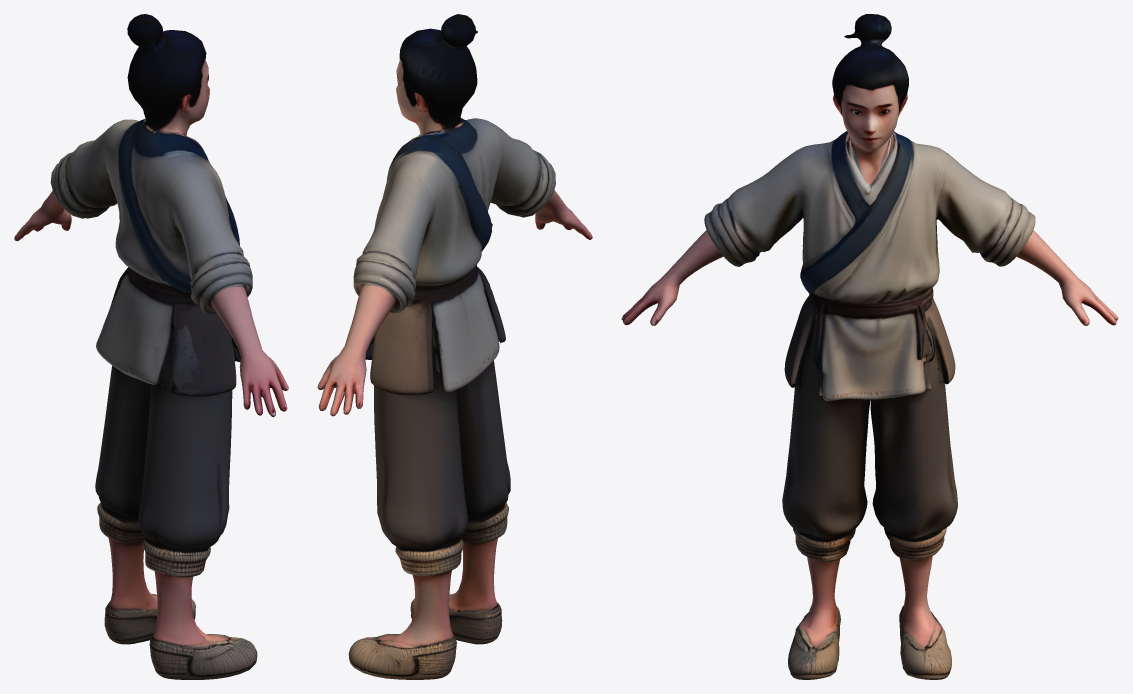
File: 武术人物3d模型.fbx
3 renders of one model, left to right at view 1: azimuth 30°, elevation 25°; view 2: azimuth 150°, elevation 25°; view 3: azimuth 270°, elevation 25°, orthographic.
Parts seen in each view (by area): view 1: tripo_node_28b1cd80; view 2: tripo_node_28b1cd80; view 3: tripo_node_28b1cd80.
Part boxes in pixels (x1=…): tripo_node_28b1cd80: x1=14, y1=14, x2=288, y2=679; tripo_node_28b1cd80: x1=317, y1=14, x2=592, y2=679; tripo_node_28b1cd80: x1=621, y1=14, x2=1118, y2=679.
Size of the model in its own units: 0.1789 by 0.9994 by 0.7092.
